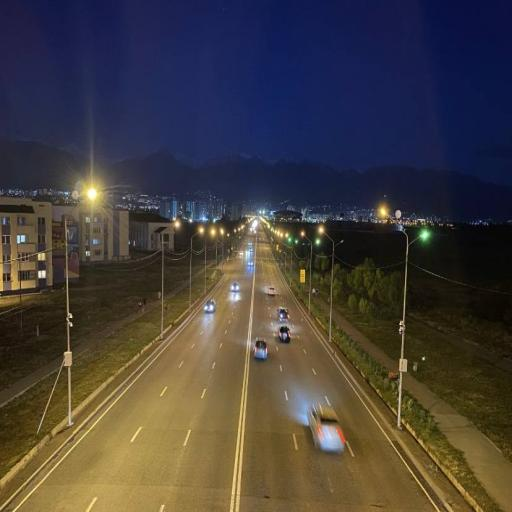phone: (401, 231, 409, 362), (65, 217, 70, 352), (161, 234, 163, 340)
ramp: (9, 236, 435, 511)
